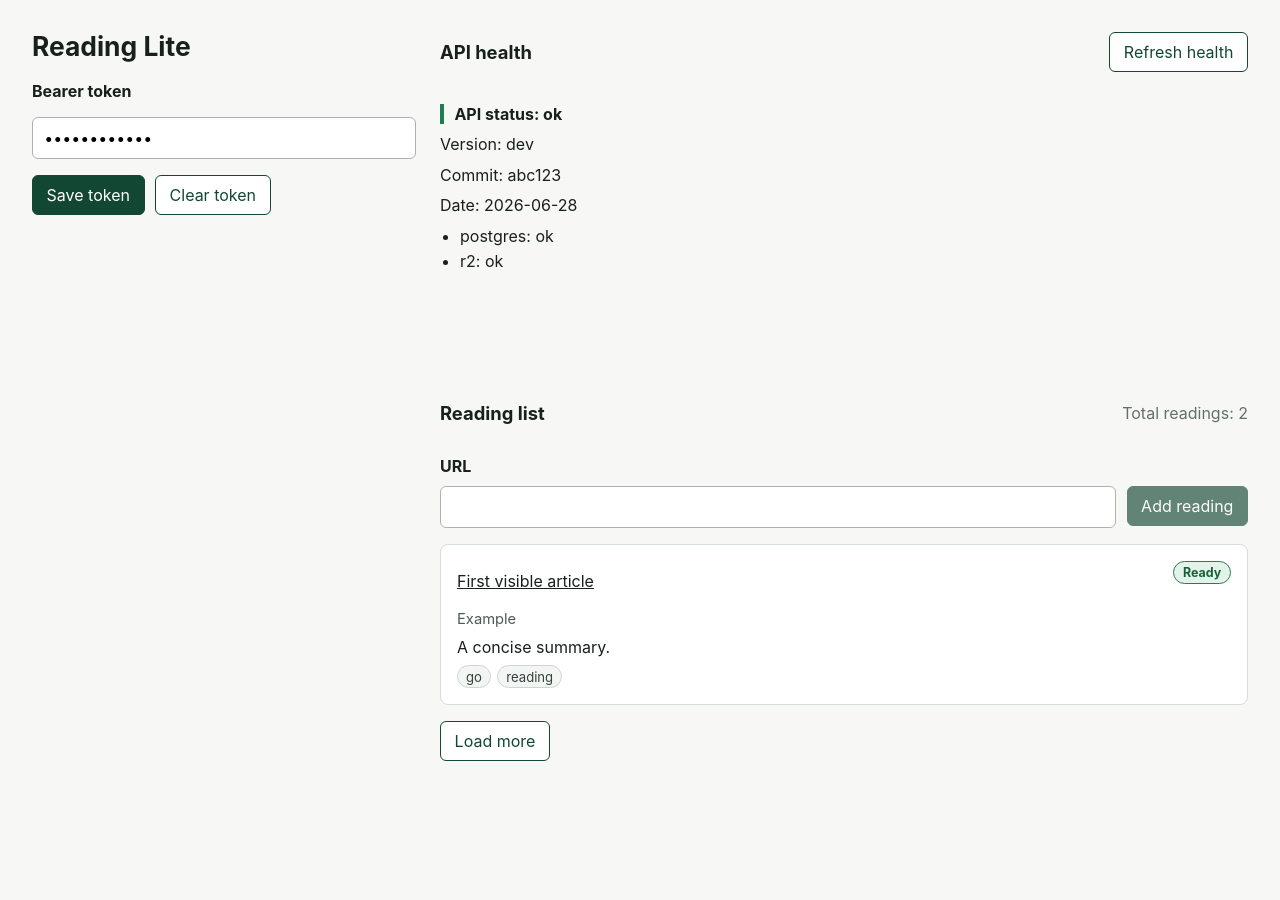
Test: App › submits a URL and refreshes the same visible page depth with fresh cursors
Check: the button "First visible article" is shown, box [457,561,594,601]
Click the button "Load more" at x=495, y=741, box [440,721,550,761]
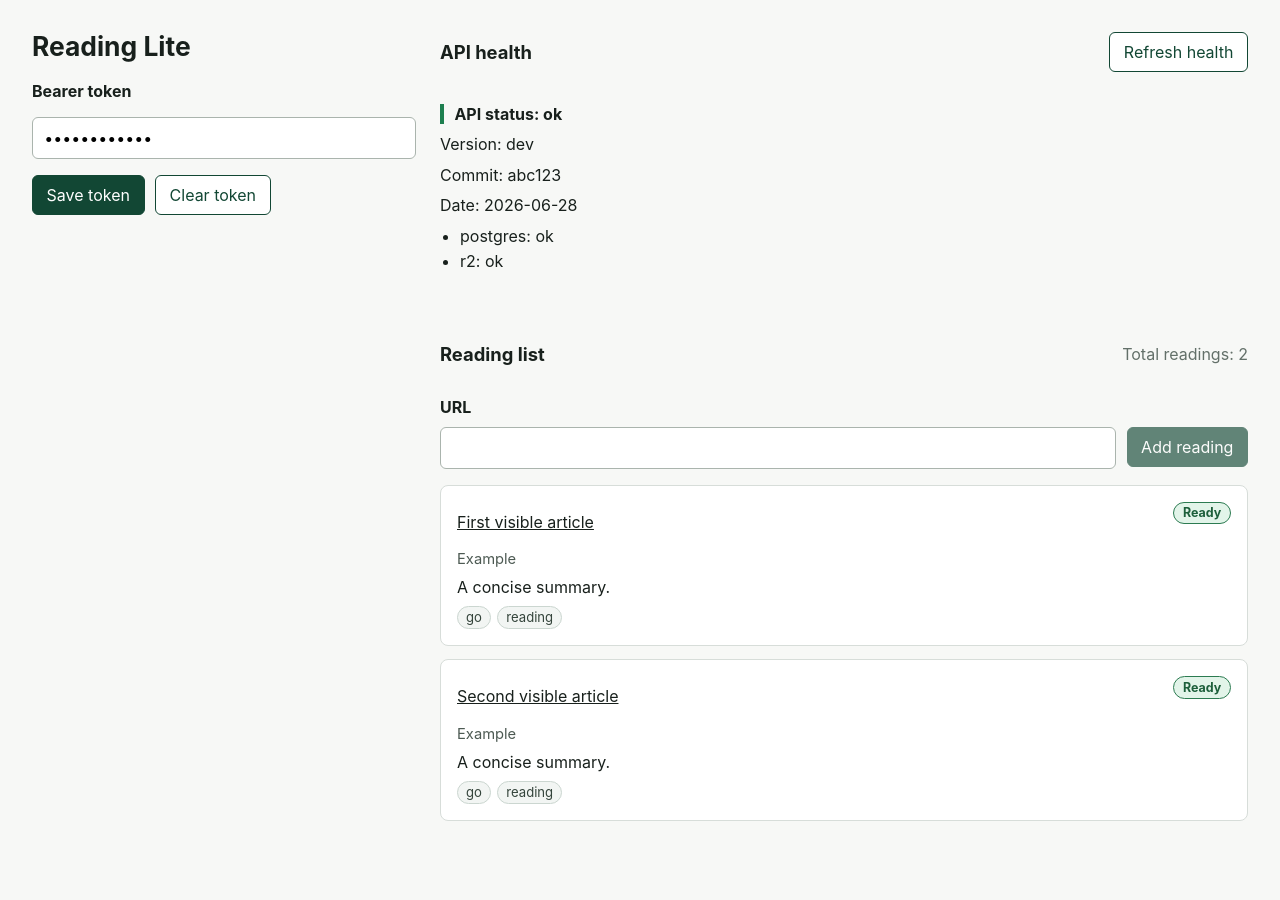
Check: the button "Second visible article" is shown, box [457,676,618,716]
Type "https://example.com/post" into the field labelled "URL" at x=778, y=448, box [440,427,1116,469]
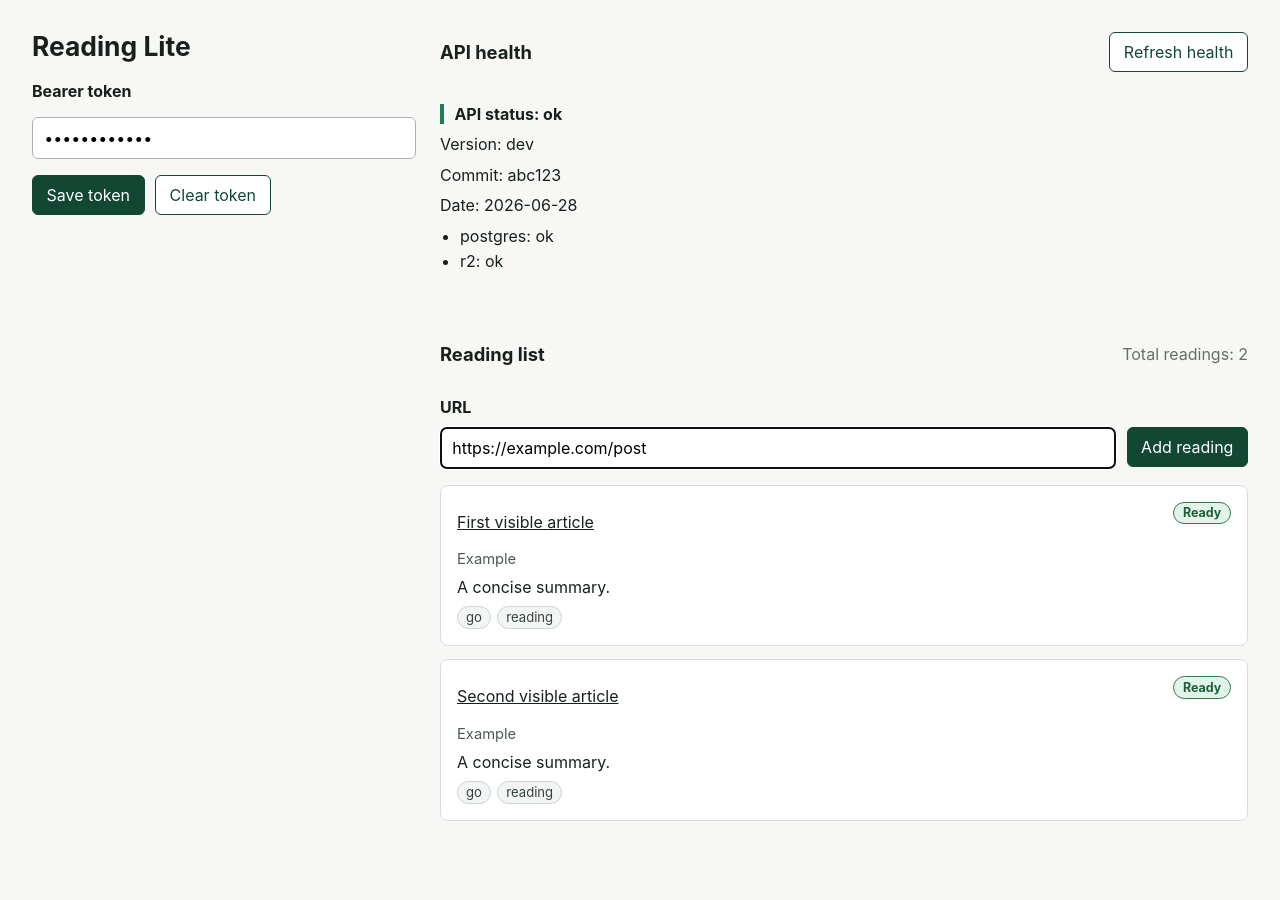
Click the button "Add reading" at x=1187, y=447, box [1126,427,1248,467]
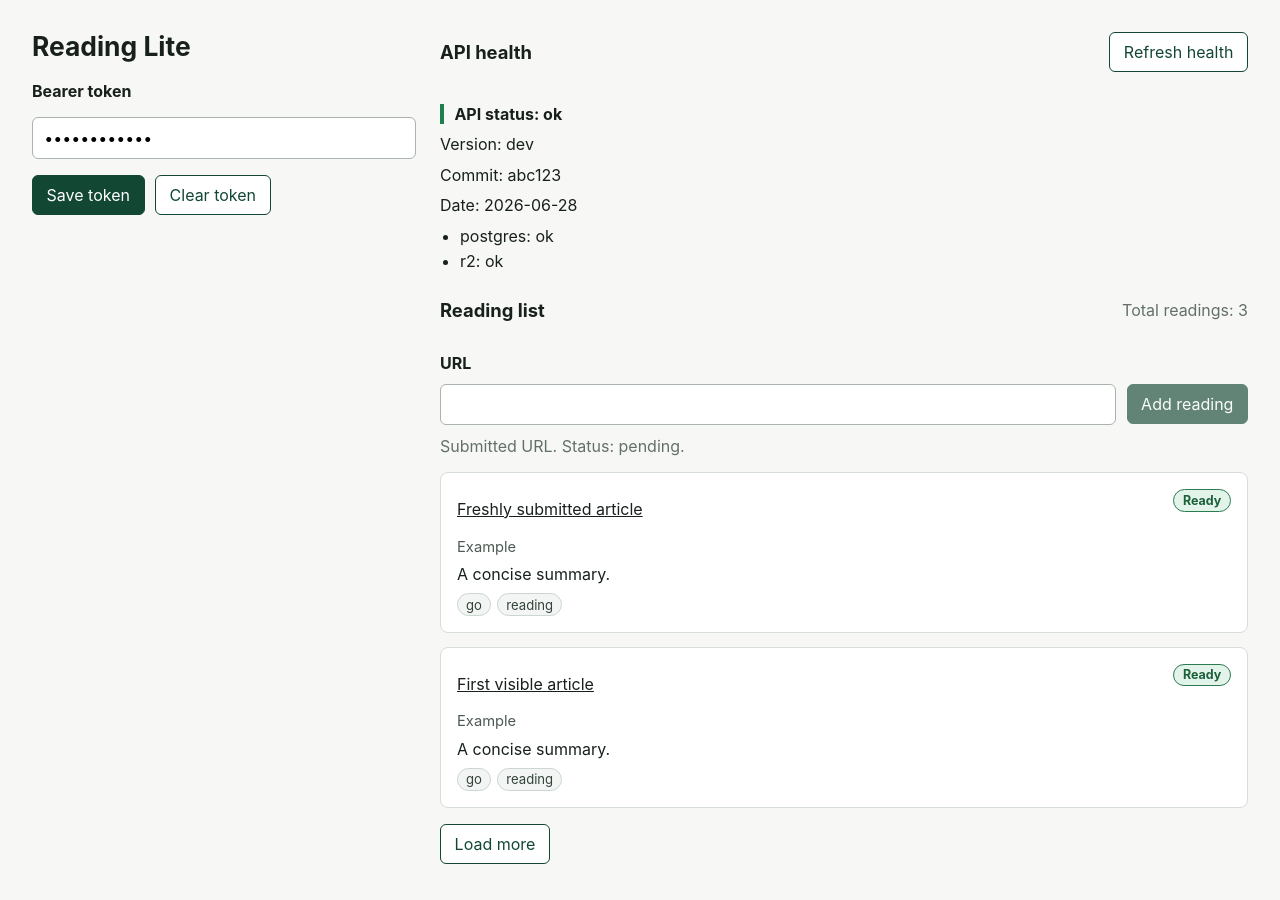
Check: the button "Freshly submitted article" is shown, box [457,489,643,529]
Check: the button "Second visible article" is gone
Check: the button "Load more" is enabled, box [440,824,550,864]
